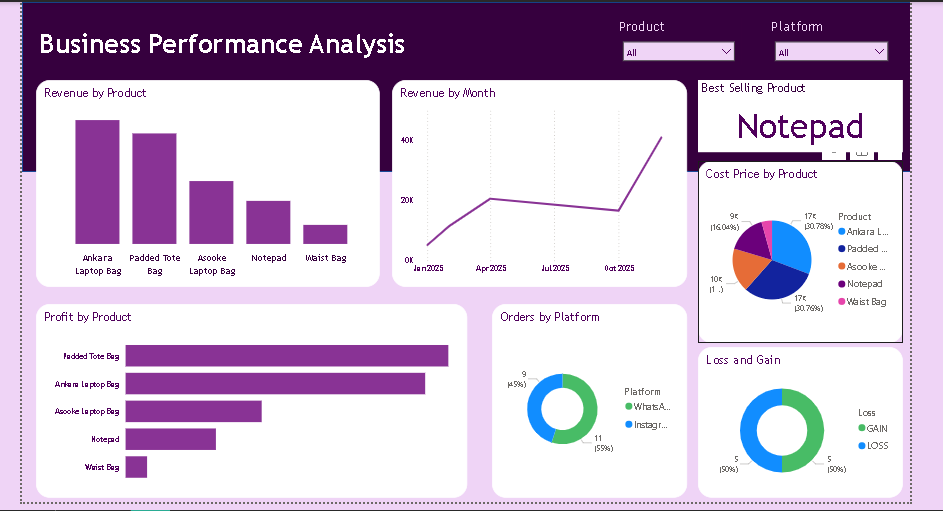

The dashboard page shown, as its layout file describes it:
{"tool":"powerbi","page":{"name":"Page 1","canvas":[1280,720],"ordinal":0},"visuals":[{"type":"shape","box":[0,0,1280.2,244.8],"z":0},{"type":"clusteredColumnChart","title":"Revenue by Product","fields":{"Y":["Sales_Data.Total Revenue"],"Category":["Sales_Data.Product"]},"box":[20.2,112.3,495.4,298.1],"z":1000},{"type":"clusteredBarChart","title":"Profit by Product","fields":{"Category":["Sales_Data.Product"],"Y":["Sales_Data.Total Profit"]},"box":[20.2,434.9,620.6,279.4],"z":2000},{"type":"lineChart","title":"Revenue by Month","fields":{"Y":["Sales_Data.Total Revenue"],"Category":["Sales_Data.Sales Date.Variation.Date Hierarchy.Year","Sales_Data.Sales Date.Variation.Date Hierarchy.Month"]},"box":[532.8,112.3,424.8,298.1],"z":3000},{"type":"donutChart","fields":{"Y":["Sales_Data.Orders"],"Category":["Sales_Data.Platform"]},"box":[676.8,434.9,280.8,279.4],"z":4000},{"type":"pieChart","title":"Cost Price by Product","fields":{"Y":["Sum(Sales_Data.Cost Price)"],"Category":["Sales_Data.Product"]},"box":[973.4,229,295.2,262.1],"z":5000},{"type":"donutChart","title":"Loss and Gain","fields":{"Y":["CountNonNull(Sales_Data.Loss)"],"Category":["Sales_Data.Loss"]},"box":[973.4,496.8,295.2,217.4],"z":6000},{"type":"card","title":"Best Selling Product","fields":{"Values":["Sales_Data.Best Selling Product"]},"box":[973.4,112.3,295.2,103.7],"z":7000},{"type":"textbox","box":[20.2,33.1,578.9,67.7],"z":8000},{"type":"slicer","title":"Product","fields":{"Values":["Sales_Data.Product"]},"box":[855.4,23,181.4,67.7],"z":9000},{"type":"slicer","title":"Platform","fields":{"Values":["Sales_Data.Platform"]},"box":[1074.2,23,182.9,67.7],"z":10000}]}

Visuals, with their boxes in screenshot pixels (x1, y1, x2, y2):
shape: <bbox>17, 0, 913, 171</bbox>
"Revenue by Product" clusteredColumnChart: <bbox>31, 79, 378, 287</bbox>
"Profit by Product" clusteredBarChart: <bbox>31, 304, 466, 500</bbox>
"Revenue by Month" lineChart: <bbox>390, 79, 687, 287</bbox>
donutChart - Sales_Data.Orders x Sales_Data.Platform: <bbox>491, 304, 687, 500</bbox>
"Cost Price by Product" pieChart: <bbox>698, 160, 905, 344</bbox>
"Loss and Gain" donutChart: <bbox>698, 348, 905, 500</bbox>
"Best Selling Product" card: <bbox>698, 79, 905, 151</bbox>
textbox: <bbox>31, 23, 436, 71</bbox>
"Product" slicer: <bbox>616, 16, 743, 63</bbox>
"Platform" slicer: <bbox>769, 16, 897, 63</bbox>
